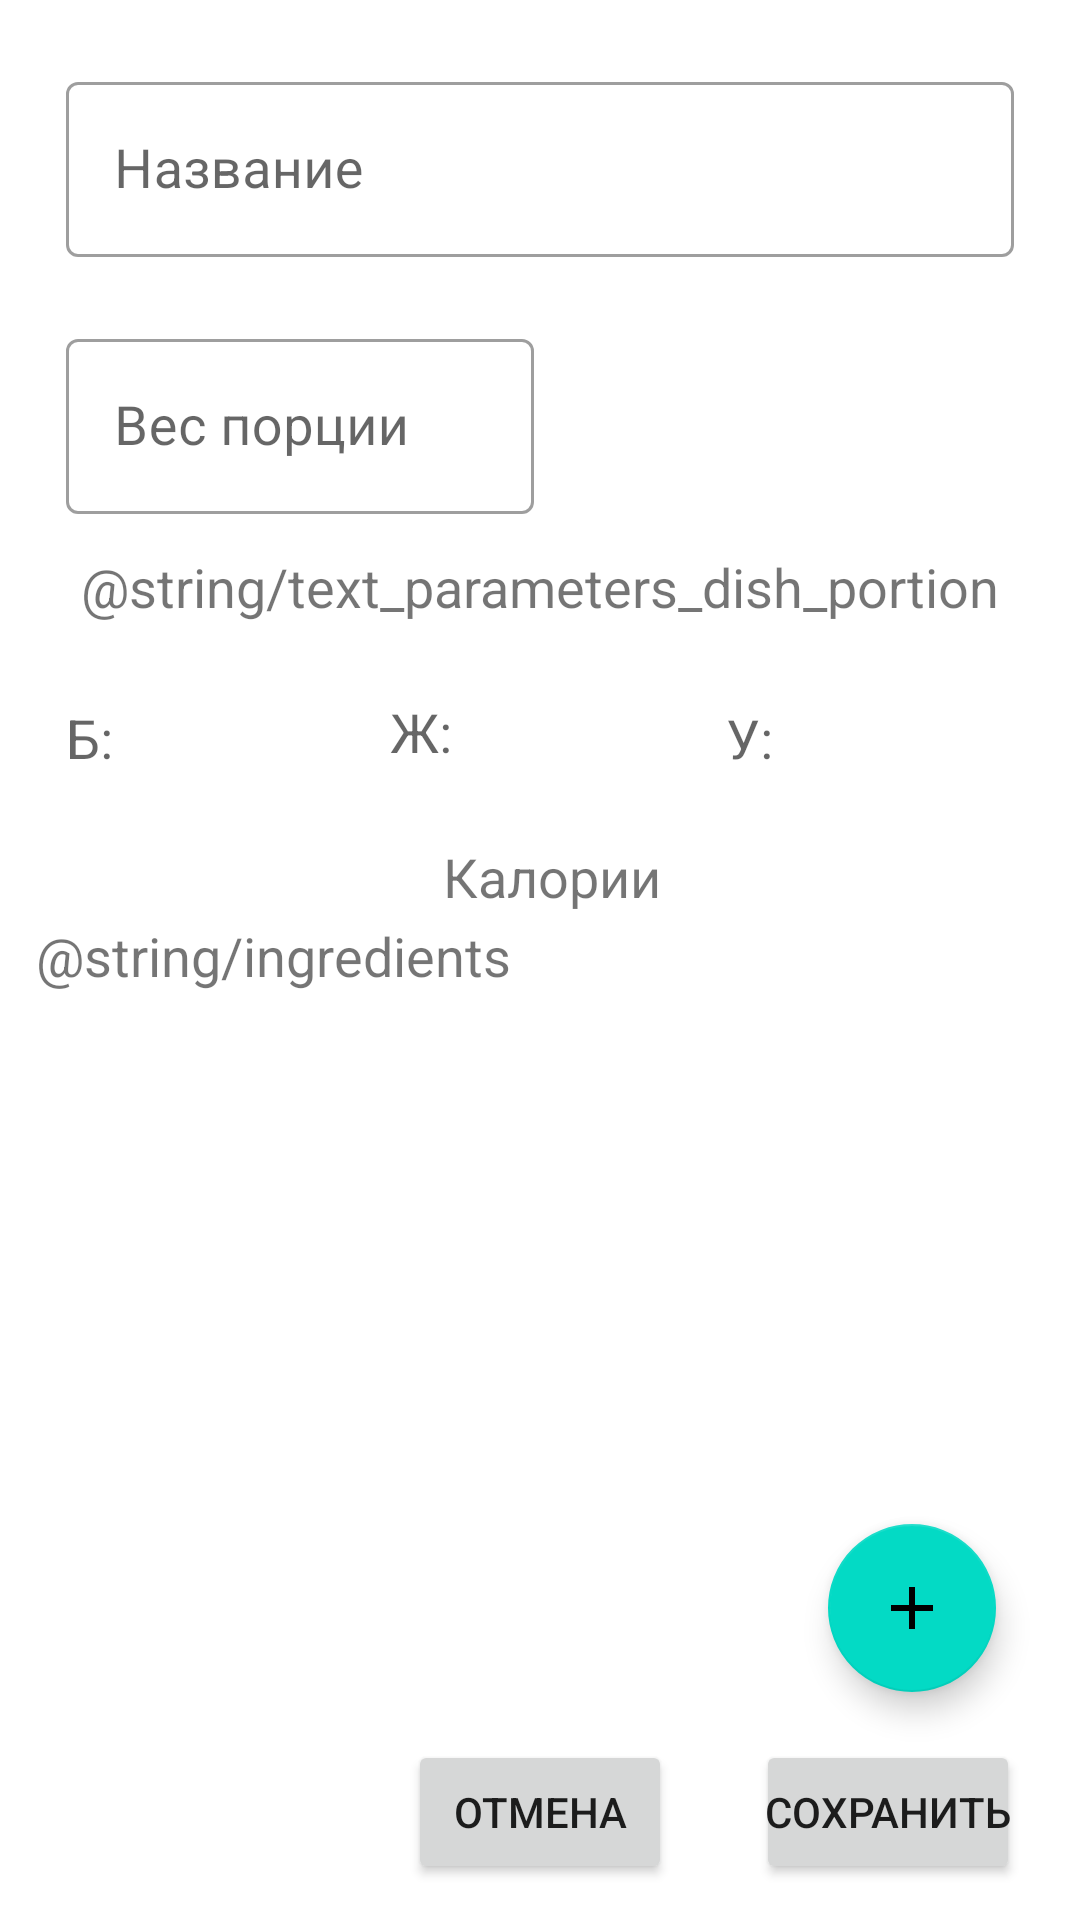

Named icons in this screenshot (1080*1920) and their bounding boxes, (x1, y1, x2, y2):
add: (828, 1524, 996, 1692)
